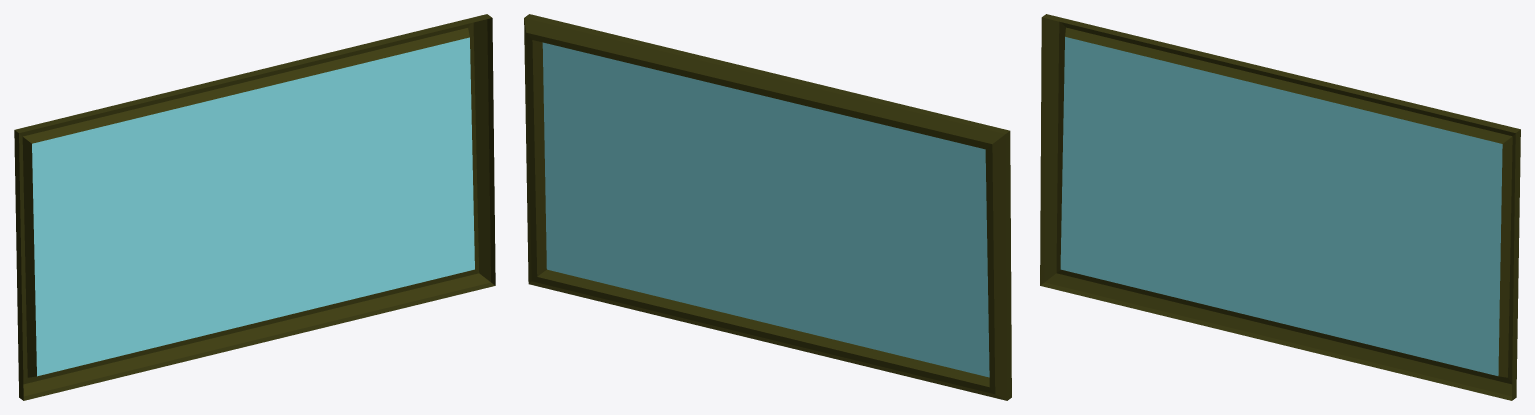
File: Building_Window_Large.fbx
The picture shows the model from 3 angles, left to right: view 1: azimuth 30°, elevation 25°; view 2: azimuth 150°, elevation 25°; view 3: azimuth 330°, elevation 25°; orthographic projection.
Parts seen in each view (by area): view 1: Building_Window_Large; view 2: Building_Window_Large; view 3: Building_Window_Large.
Boxes of the visible parts, x1,y1,x2,y2 form: Building_Window_Large: (14, 14, 495, 400); Building_Window_Large: (524, 14, 1011, 400); Building_Window_Large: (1040, 14, 1520, 400).
Size of the model in its own units: 1998 by 1071 by 106.
